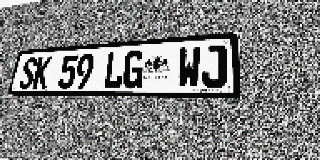5: (58, 54, 79, 89)
9: (74, 53, 95, 89)
G: (122, 50, 145, 88)
J: (201, 44, 227, 88)
K: (32, 56, 52, 89)
L: (103, 51, 125, 89)
S: (18, 57, 38, 89)
W: (177, 46, 201, 88)
